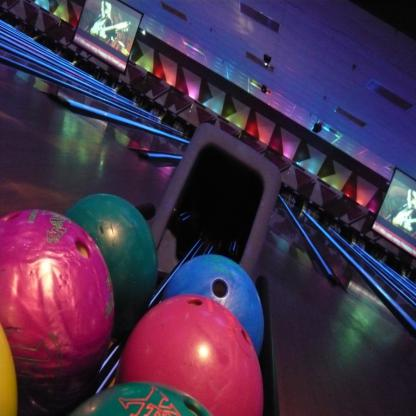Ball: (0, 208, 115, 406), (116, 295, 262, 415), (65, 193, 159, 340), (163, 253, 264, 364), (65, 382, 214, 416), (0, 324, 18, 416)
